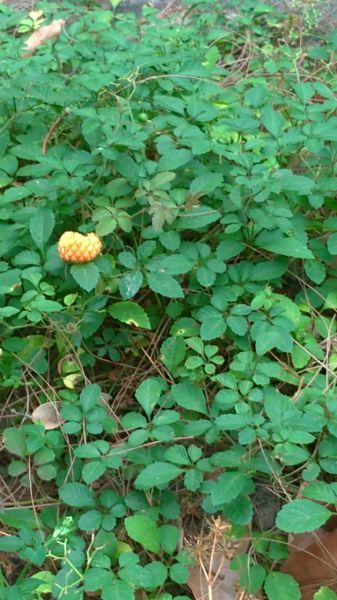eggs: (53, 224, 109, 267)
